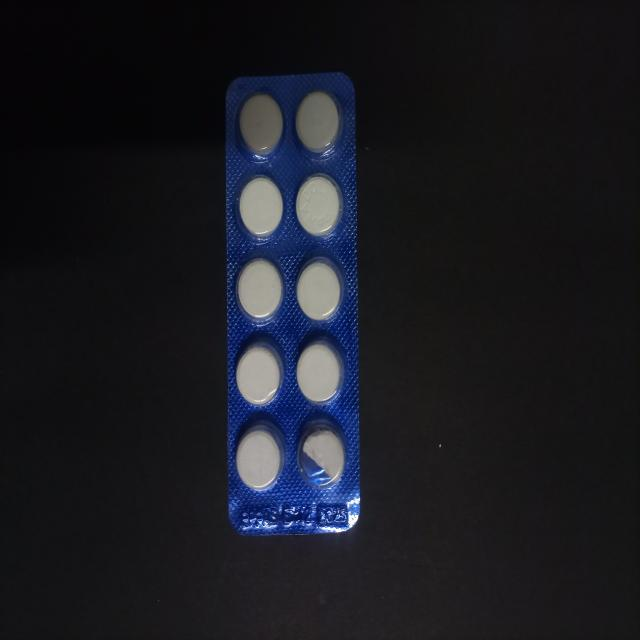defect: (293, 417, 350, 493)
